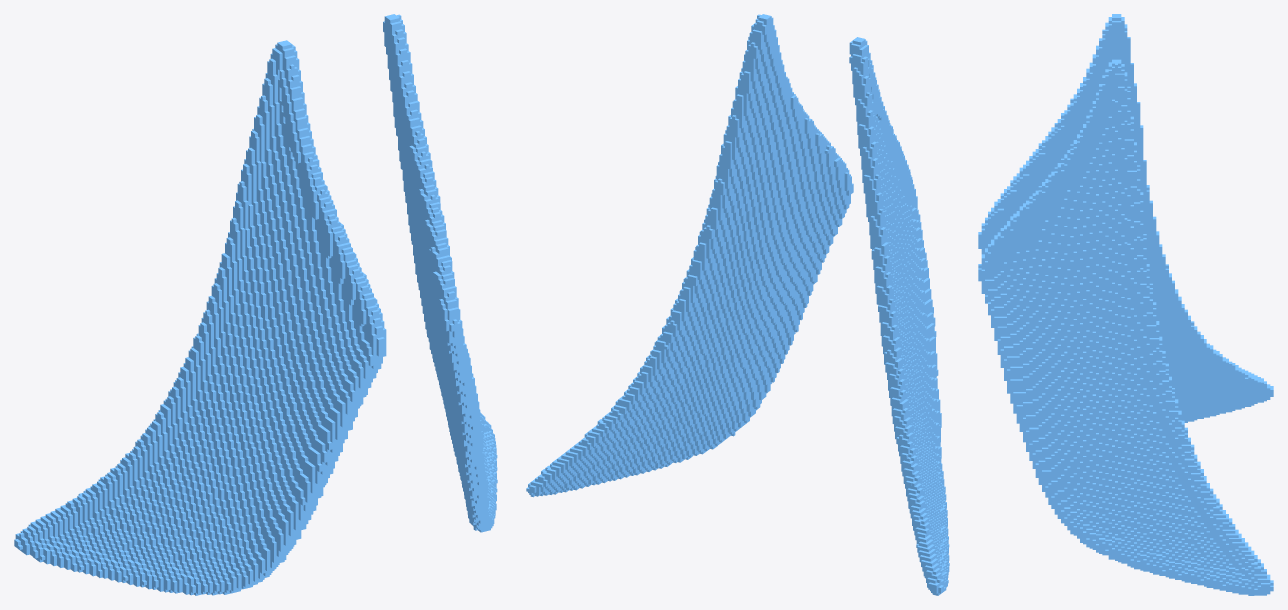
File: blue.gltf
The picture shows the model from 3 angles, left to right: view 1: azimuth 30°, elevation 25°; view 2: azimuth 150°, elevation 25°; view 3: azimuth 270°, elevation 25°; orthographic projection. The views are drawn at different scales.
Parts seen in each view (by area): view 1: 翅膀.1; view 2: 翅膀.1; view 3: 翅膀.1.
Part boxes in pixels (<box>): 翅膀.1: <box>14,14,497,595</box>; 翅膀.1: <box>526,14,949,595</box>; 翅膀.1: <box>978,14,1273,595</box>.
Size of the model in its own units: 17.88 by 19.2 by 11.16.
